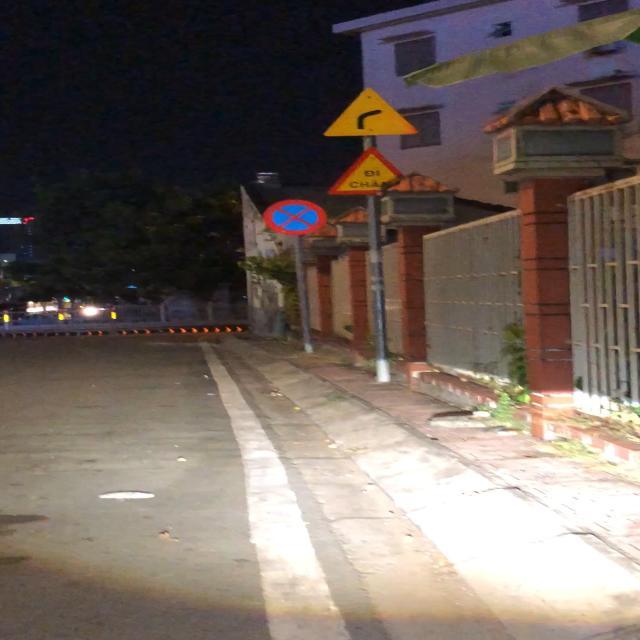Bien bao cam dung xe va do xe: (261, 198, 328, 237)
Bien bao cho ngoat nguy hiem: (323, 84, 419, 140)
Bien bao di cham: (330, 147, 411, 197)
